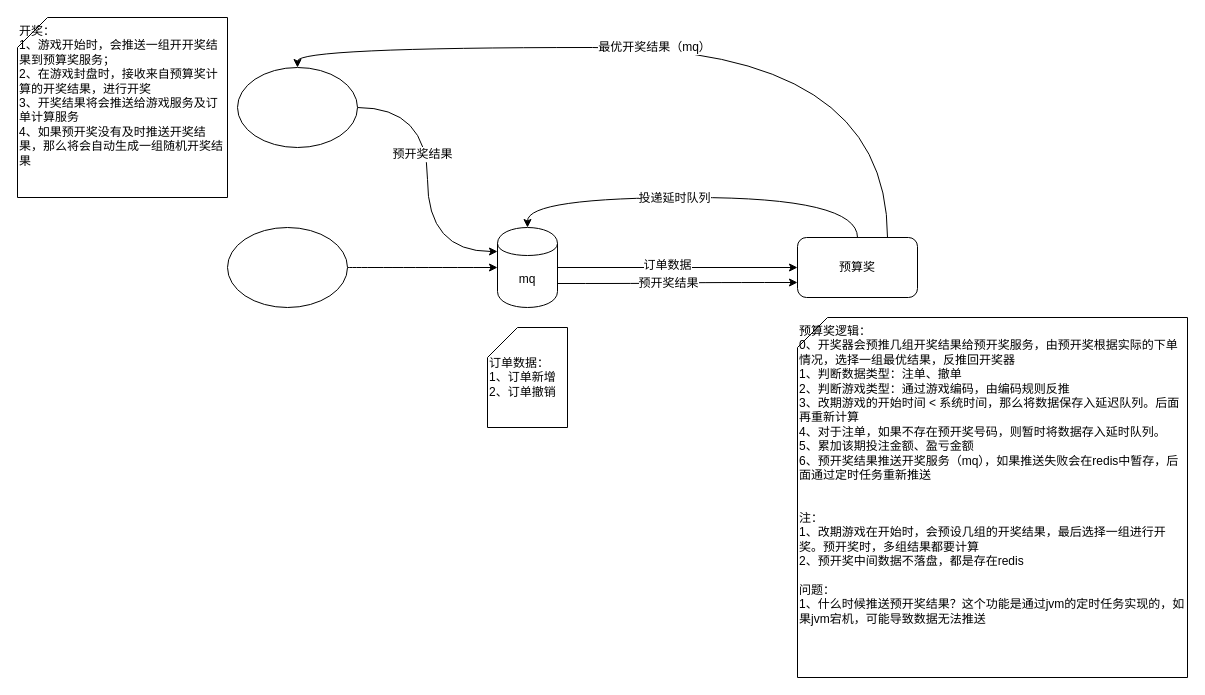
Some shapes in this 1205 by 695 pixel diagram are drawn without their labels. The centre of each missing label's shape, as x and y in pixels:
"开奖器" goes at [297,107].
"用户下单、取消订单" goes at [287,267].
